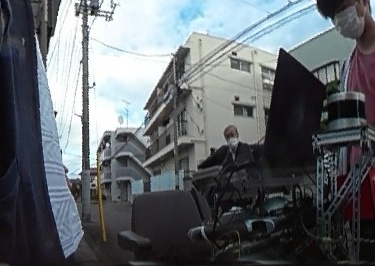person: (216, 123, 249, 165)
